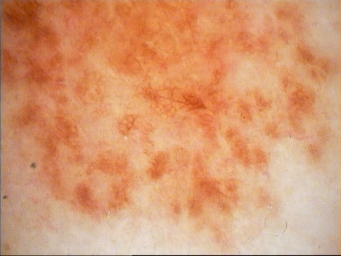melanoma: (1, 1, 226, 220), (225, 1, 337, 169)
